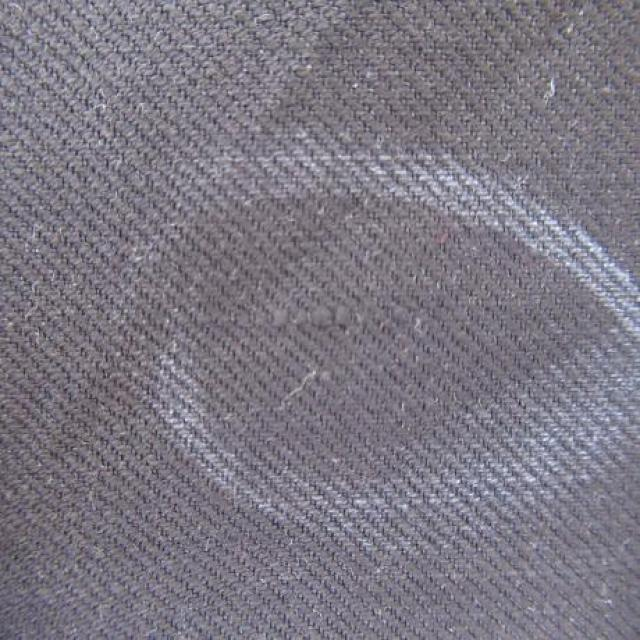stains: (208, 257, 548, 394)
